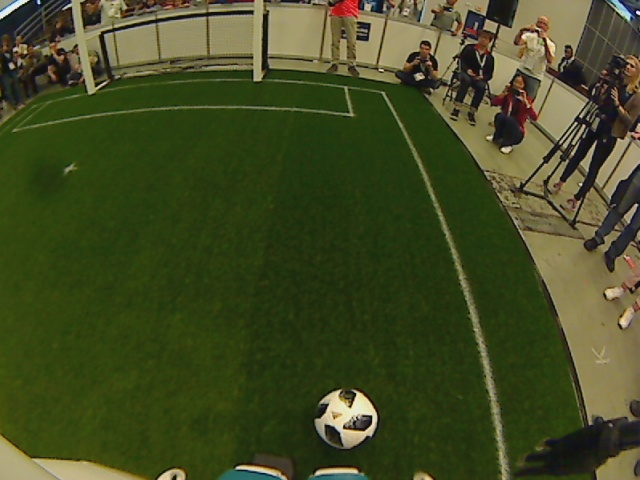ball: (311, 385, 380, 453)
goalpost: (243, 67, 267, 91), (80, 76, 99, 101)
